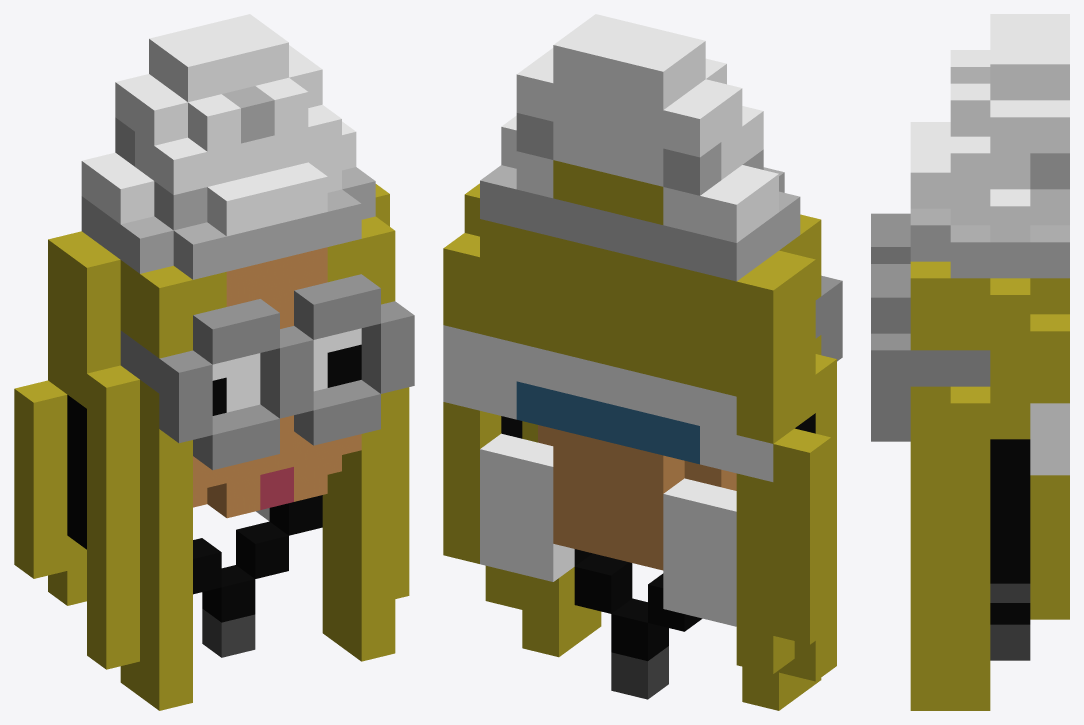
File: vrach2-5.obj
The picture shows the model from 3 angles, left to right: view 1: azimuth 30°, elevation 25°; view 2: azimuth 150°, elevation 25°; view 3: azimuth 270°, elevation 25°; orthographic projection. The views are drawn at different scales.
Size of the model in its own units: 1 by 1.7 by 0.5.
Materials: 1 (1 with a texture image).
